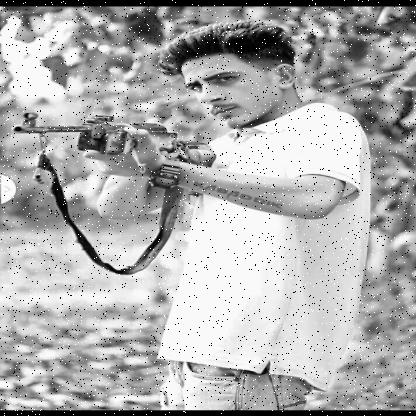rifle: (10, 110, 218, 169)
